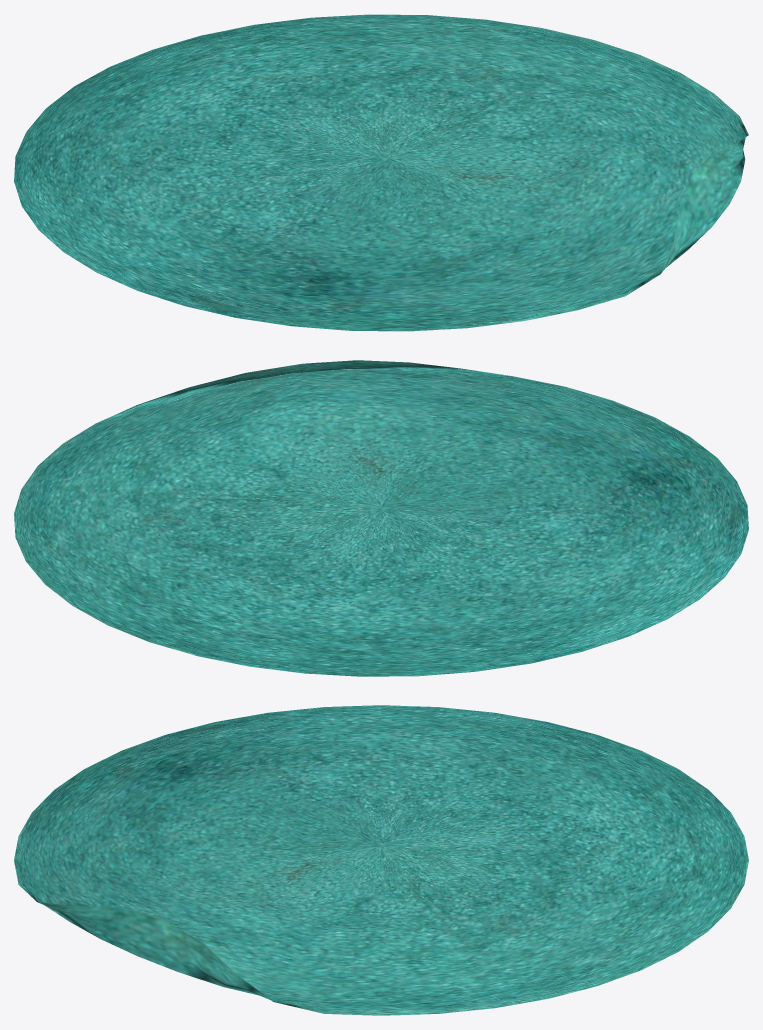
The model's file is BumpyRug.fbx.
3 views of the same model, one above another, from view 1: azimuth 30°, elevation 25°; view 2: azimuth 150°, elevation 25°; view 3: azimuth 270°, elevation 25° (orthographic). The views are drawn at different scales.
Parts seen in each view (by area): view 1: pSphere1; view 2: pSphere1; view 3: pSphere1.
Boxes of the visible parts, bbox=[...] form: pSphere1: bbox=[14, 14, 748, 331]; pSphere1: bbox=[14, 360, 748, 676]; pSphere1: bbox=[14, 705, 748, 1015].
Bounding box in the file's own units: 3.9 × 0.1874 × 3.9.
Materials: 1 (1 with a texture image).
